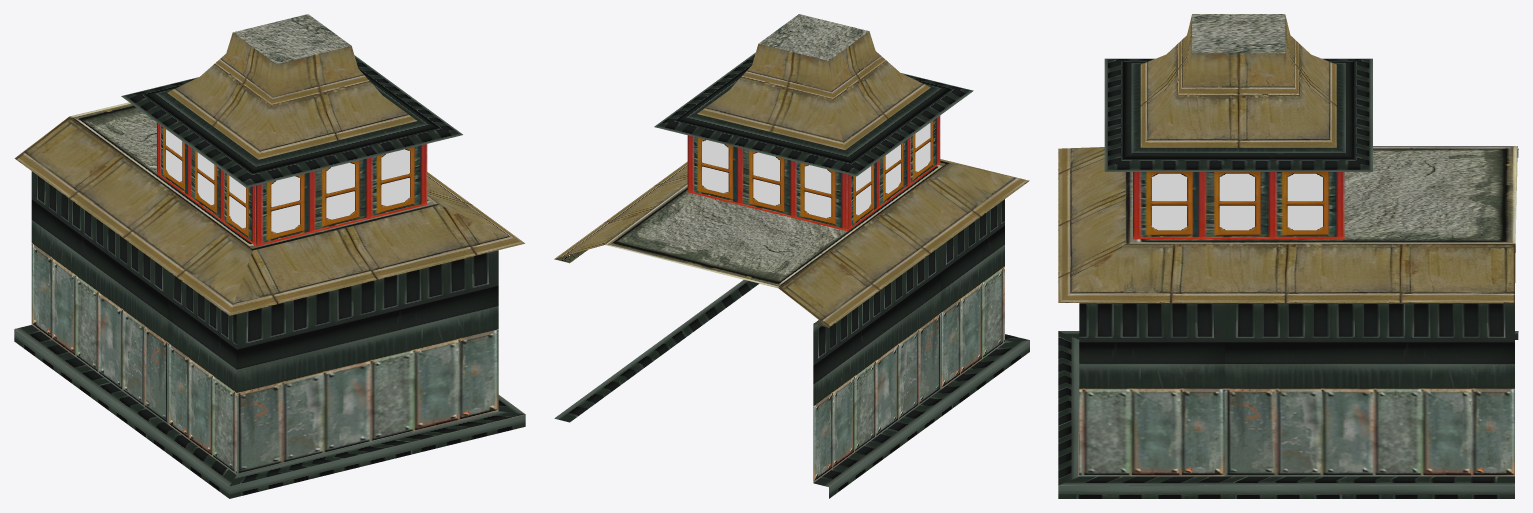
The model's file is l_palacetwr_hdtex.glb.
3 renders of one model, left to right at view 1: azimuth 30°, elevation 25°; view 2: azimuth 150°, elevation 25°; view 3: azimuth 270°, elevation 25°, orthographic. The views are drawn at different scales.
Parts seen in each view (by area): view 1: palace_twr, Litwin_palace_twr; view 2: palace_twr, Litwin_palace_twr; view 3: palace_twr, Litwin_palace_twr.
Boxes of the visible parts, x1,y1,x2,y2 form: palace_twr: [14, 14, 525, 498]; Litwin_palace_twr: [166, 129, 409, 233]; palace_twr: [554, 14, 1029, 498]; Litwin_palace_twr: [702, 123, 930, 218]; palace_twr: [1058, 14, 1518, 498]; Litwin_palace_twr: [1151, 173, 1322, 230].
Size of the model in its own units: 12.75 by 14.91 by 16.05.
Materials: 5 (5 with a texture image).
